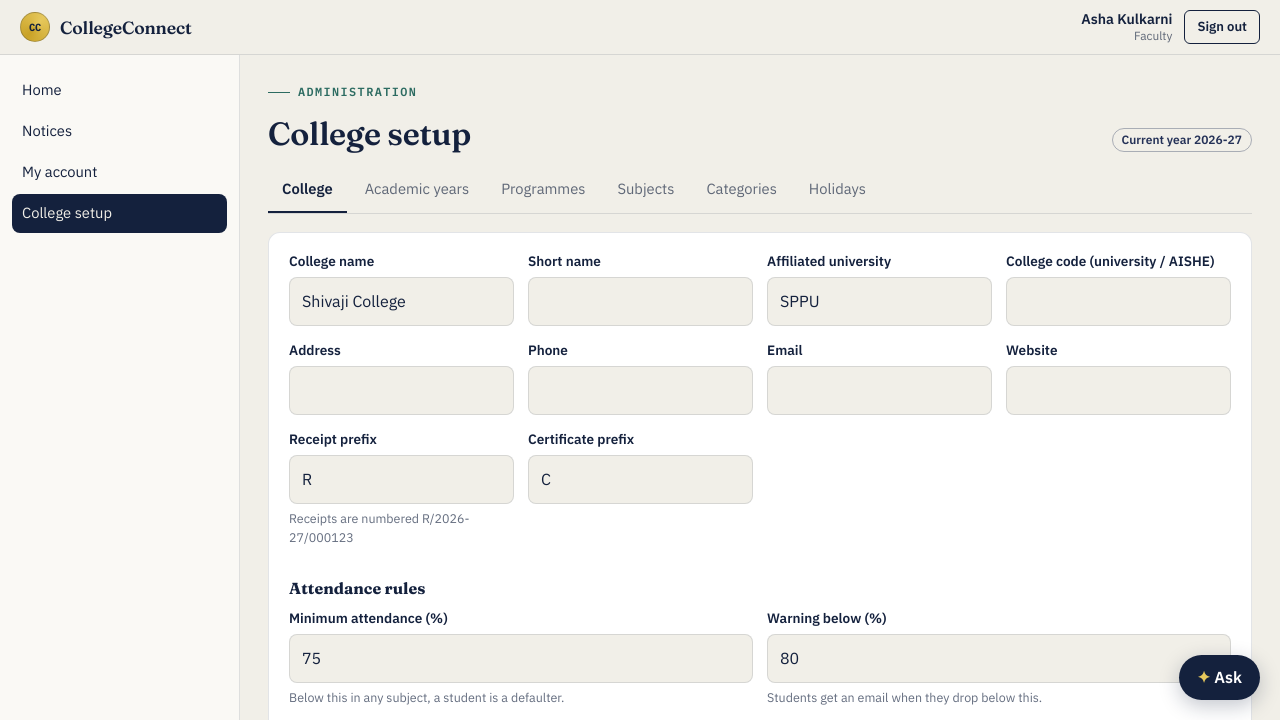
Test: college setup › is read-only without setup.manage
The width and height of the screenshot is (1280, 720).
Expected: the field labelled "College name" is disabled, [289, 277, 514, 326]
Click the tab "Categories": {"x": 742, "y": 191} [692, 168, 791, 213]
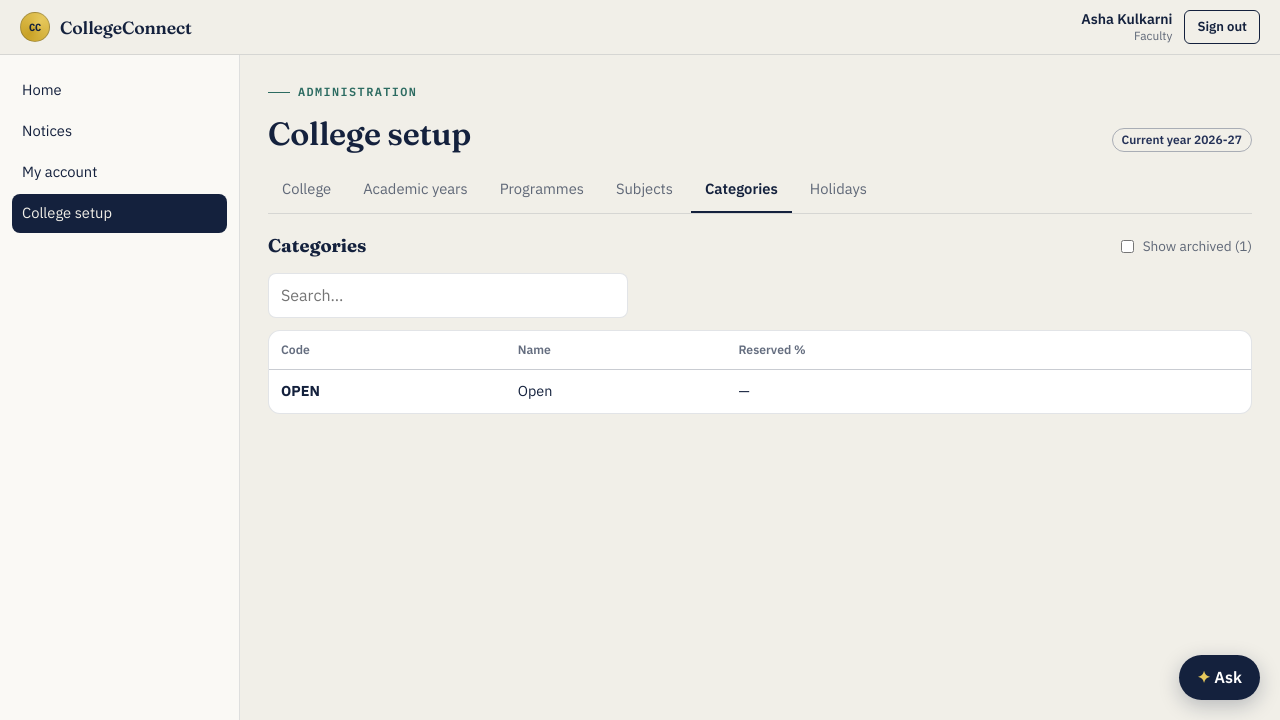
Expected: the label "Add" is gone
